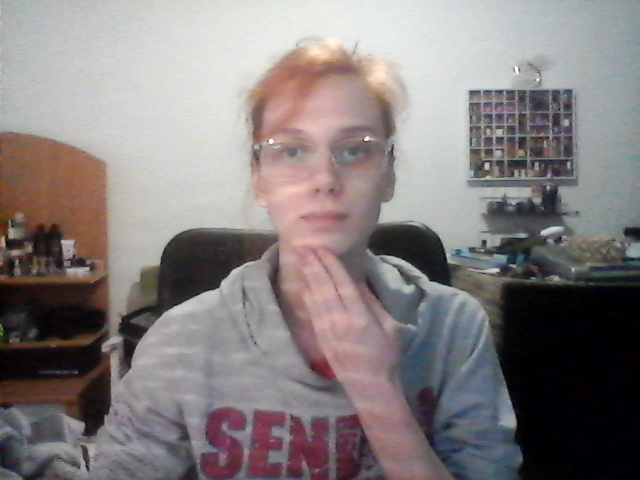dakujem: (274, 231, 419, 390)
